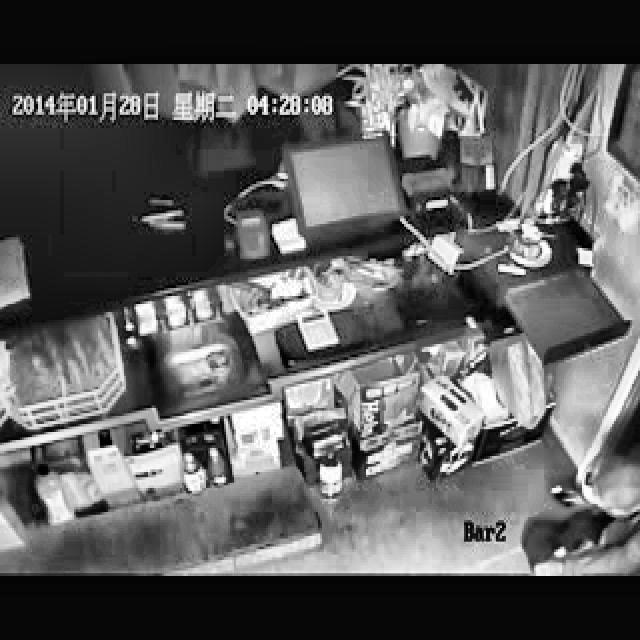burglary: (514, 407, 638, 572)
